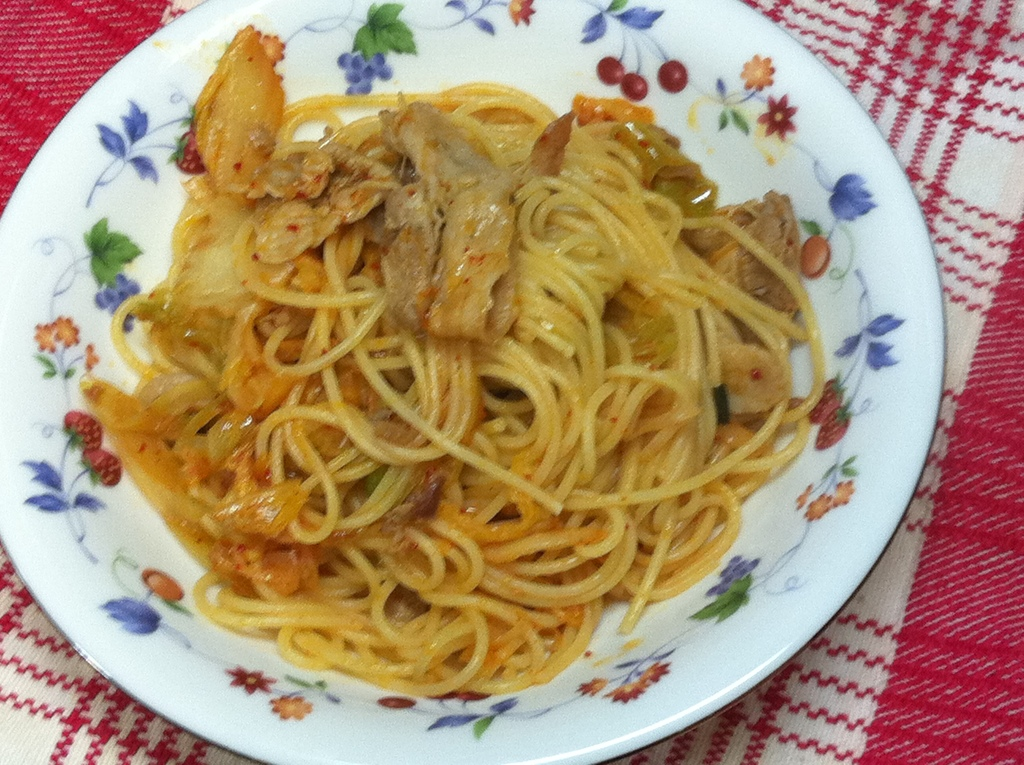pasta: (80, 82, 830, 699)
